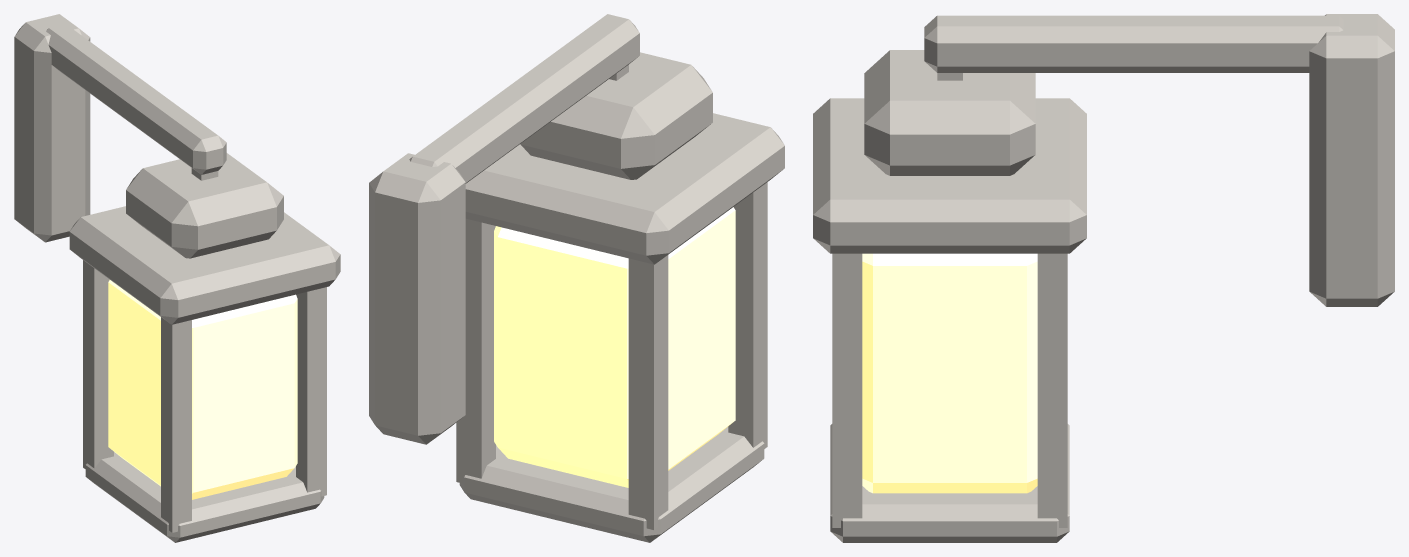
Rendered from SM_VK_Prop_Lantern.glb.
3 renders of one model, left to right at view 1: azimuth 30°, elevation 25°; view 2: azimuth 150°, elevation 25°; view 3: azimuth 270°, elevation 25°, orthographic. The views are drawn at different scales.
Parts seen in each view (by area): view 1: SM_VK_Prop_Lantern; view 2: SM_VK_Prop_Lantern; view 3: SM_VK_Prop_Lantern.
Part boxes in pixels (<box>): SM_VK_Prop_Lantern: <box>14,14,340,542</box>; SM_VK_Prop_Lantern: <box>369,14,784,542</box>; SM_VK_Prop_Lantern: <box>813,14,1394,542</box>.
Size of the model in its own units: 0.32 by 0.615 by 0.68.
